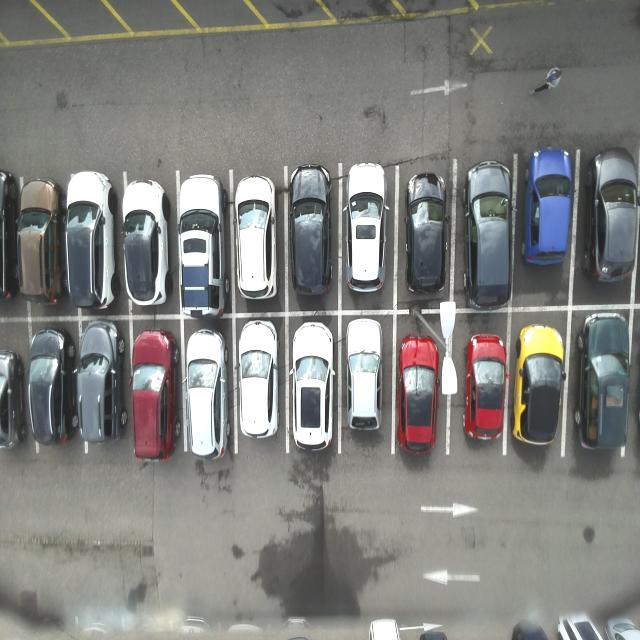car: (577, 313, 634, 459), (586, 151, 640, 301), (179, 172, 231, 319), (66, 171, 119, 313), (465, 161, 514, 313), (291, 317, 339, 457), (122, 178, 172, 312), (288, 161, 337, 296), (515, 323, 567, 450), (17, 178, 65, 314), (185, 327, 232, 464), (132, 328, 180, 462), (233, 173, 281, 303), (404, 169, 450, 303), (78, 320, 126, 445), (527, 145, 574, 270), (27, 329, 77, 445), (346, 162, 390, 293), (235, 318, 281, 443), (398, 334, 440, 458), (465, 330, 510, 445), (345, 316, 388, 435)
